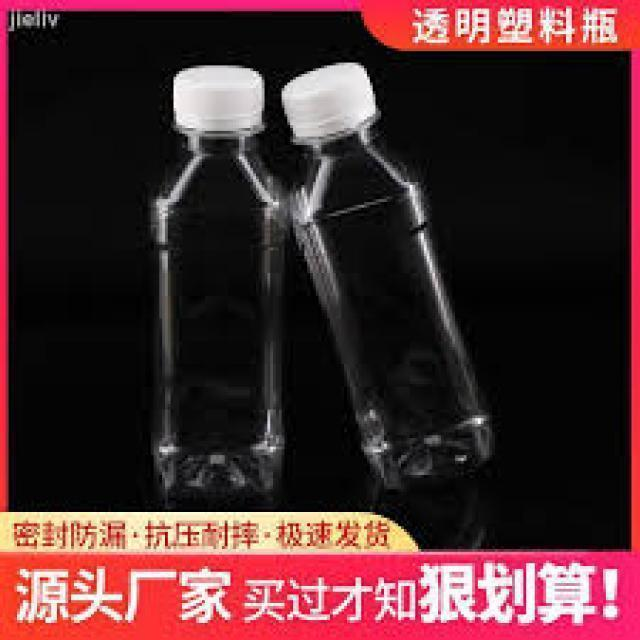Plastic: (287, 61, 500, 487), (148, 49, 284, 490)
